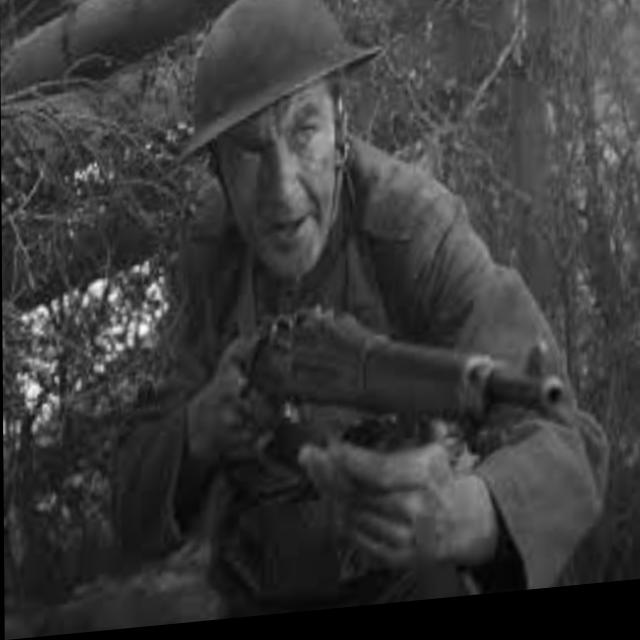other: (133, 0, 401, 607)
